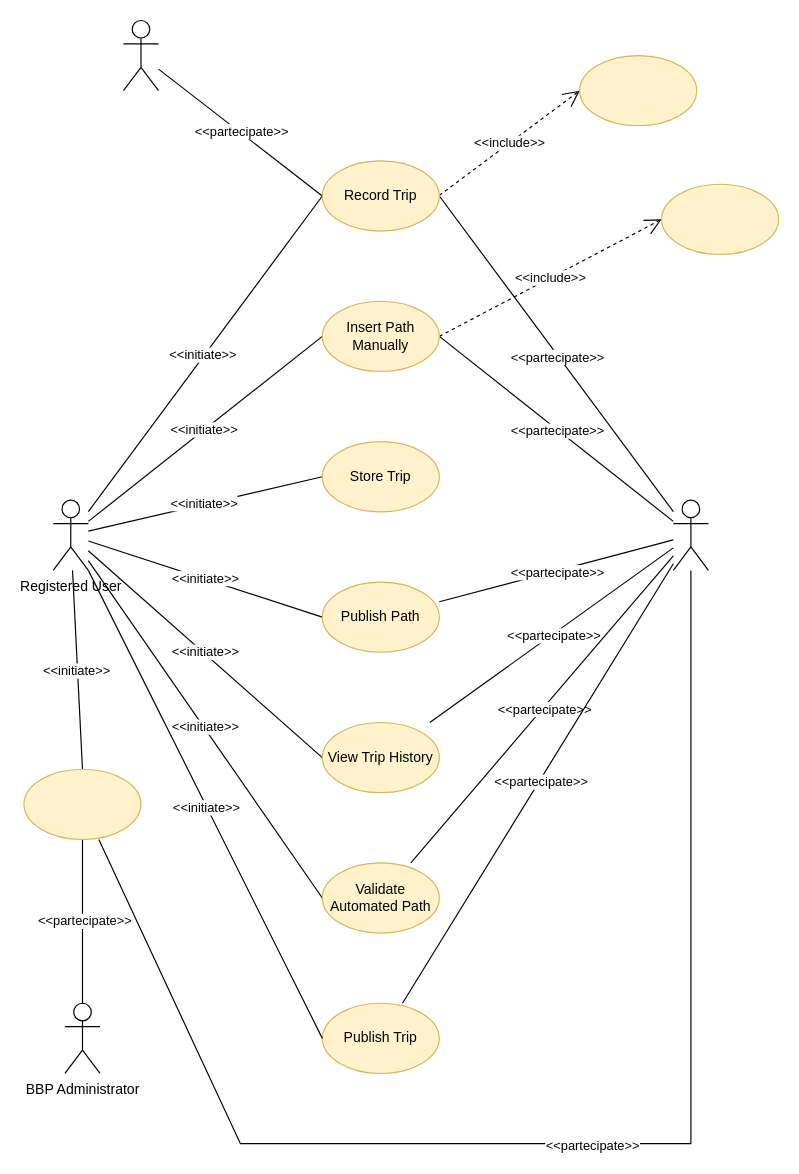
Some shapes in this 799 by 1174 pixel diagram are drawn without their labels. Here are the shapes that lost their labels. From the top down, the centre of each, then its label:
the point at 140,55: External Weather Service
the point at 638,90: Collect Trip Data
the point at 719,218: Insert Status
the point at 690,534: External Maps Service
the point at 82,803: Manage Path
